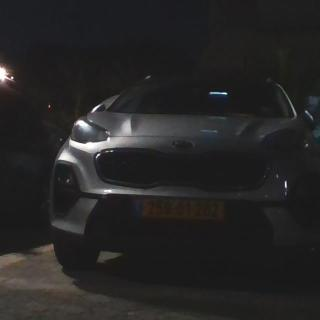LicensePlate: (141, 198, 224, 220)
